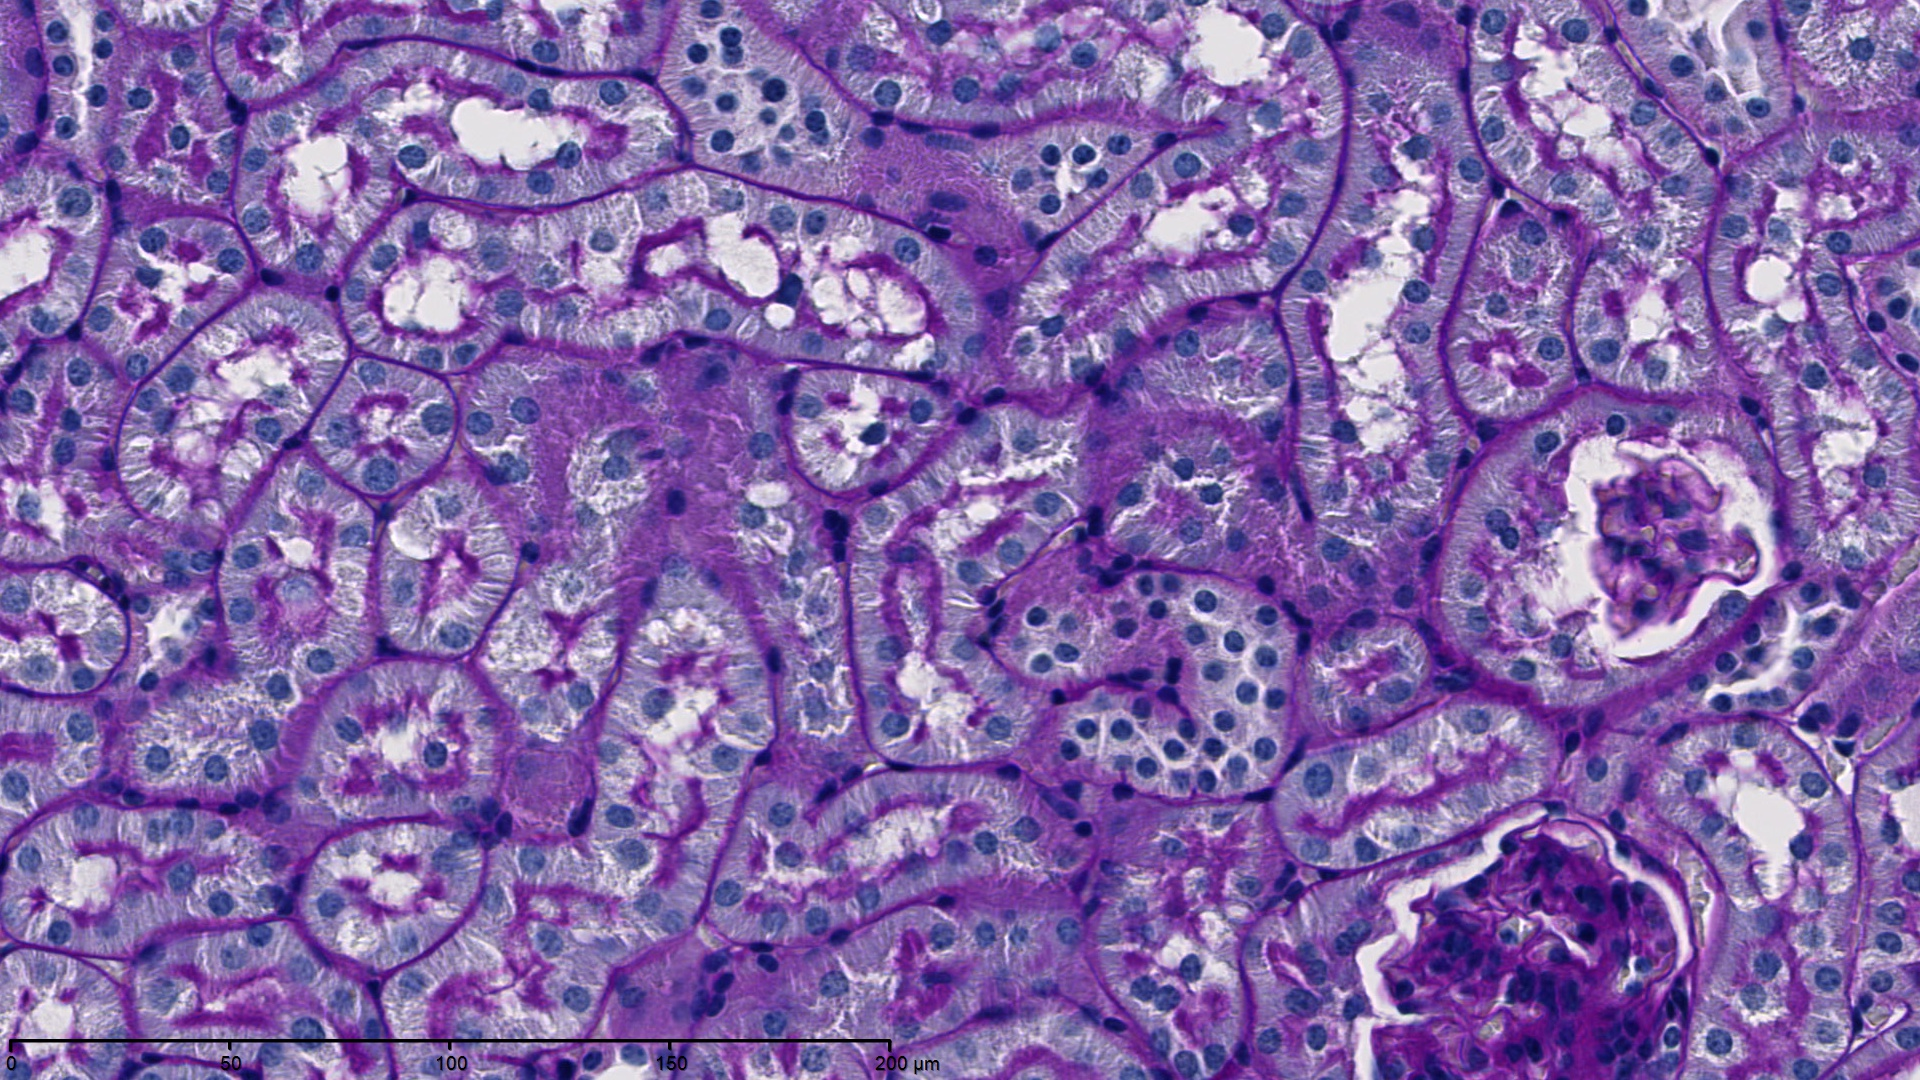Glomeruli: (1360, 806, 1700, 1080)
